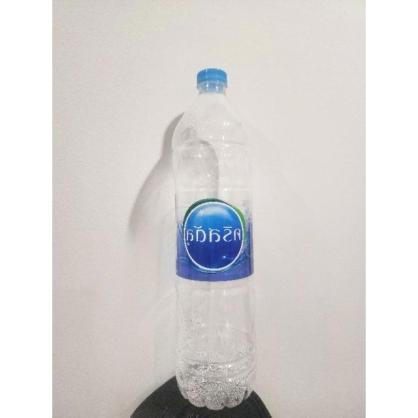bottle: (172, 67, 254, 408)
cap: (197, 66, 227, 91)
label: (173, 196, 254, 279)
